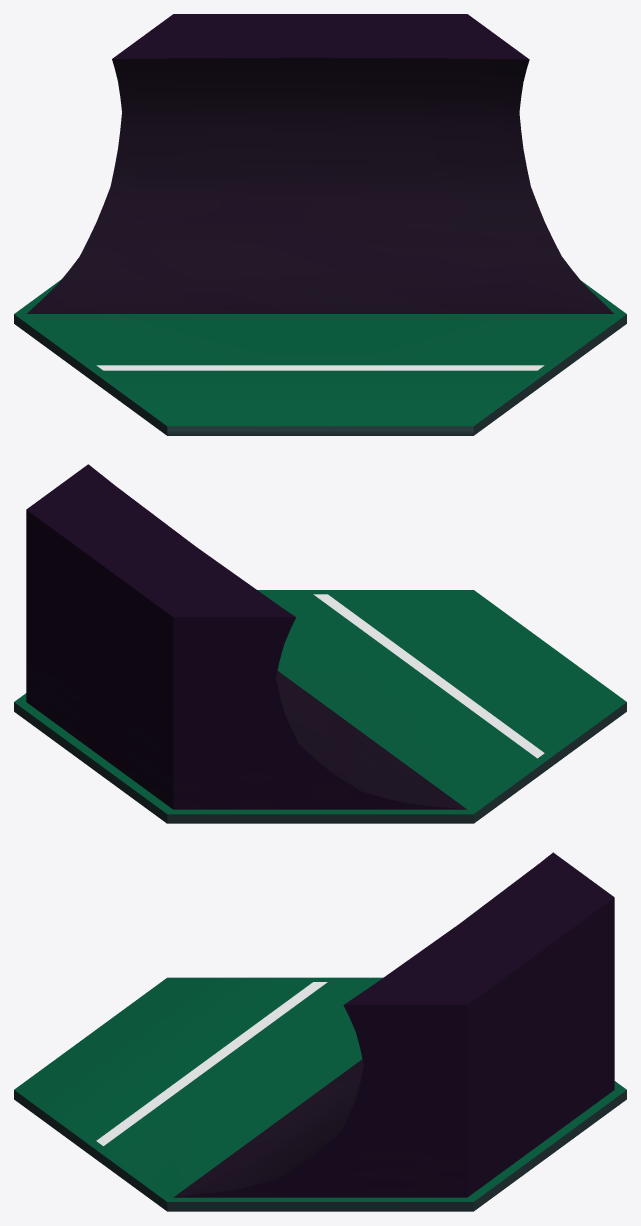
Rendered from right5.fbx.
3 views of the same model, one above another, from view 1: azimuth 30°, elevation 25°; view 2: azimuth 150°, elevation 25°; view 3: azimuth 270°, elevation 25° (orthographic).
Parts seen in each view (by area): view 1: right5; view 2: right5; view 3: right5.
Boxes of the visible parts, box(x1,y1,x2,y2) form: right5: box(14, 14, 626, 435); right5: box(14, 464, 626, 823); right5: box(14, 852, 626, 1211).
Bounding box in the file's own units: 50.01 × 21 × 57.75.
1 material, 1 textured.
